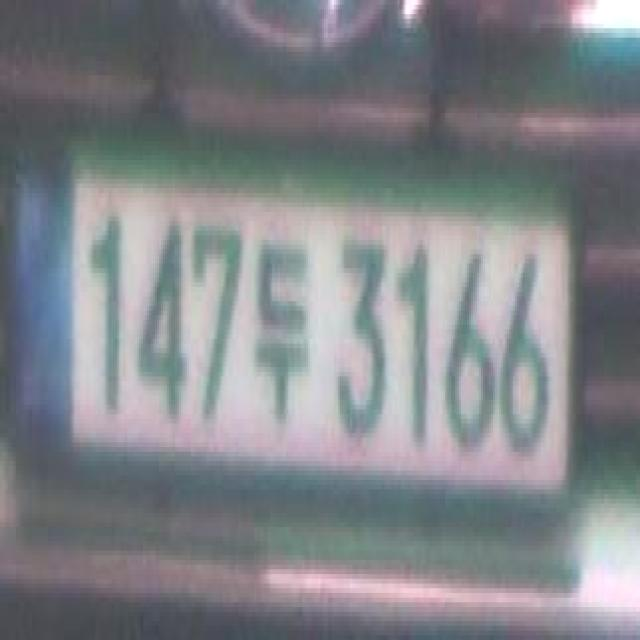illegal_plate: (3, 110, 582, 552)
